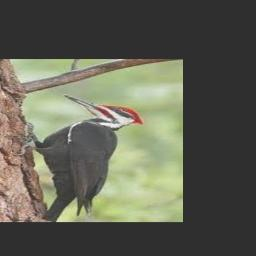Woodpecker: (11, 94, 143, 222)
